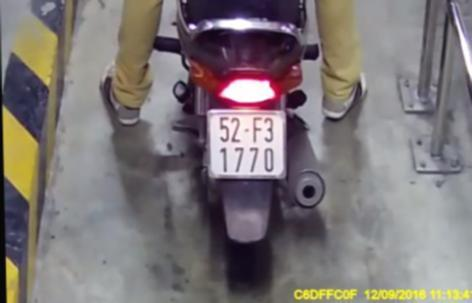License_Plate: (198, 106, 299, 184)
